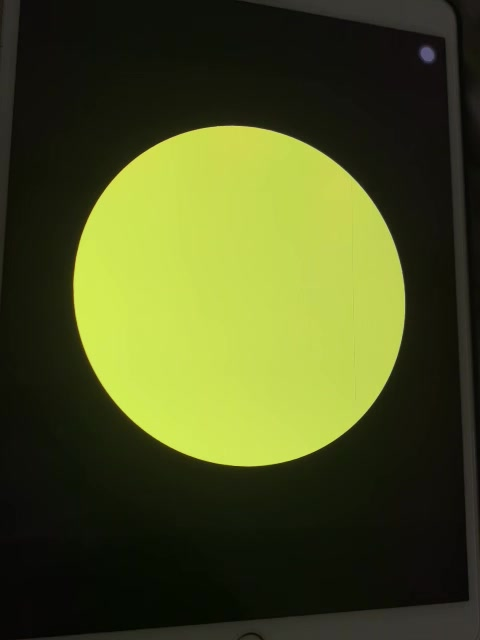left: (69, 115, 413, 477)
